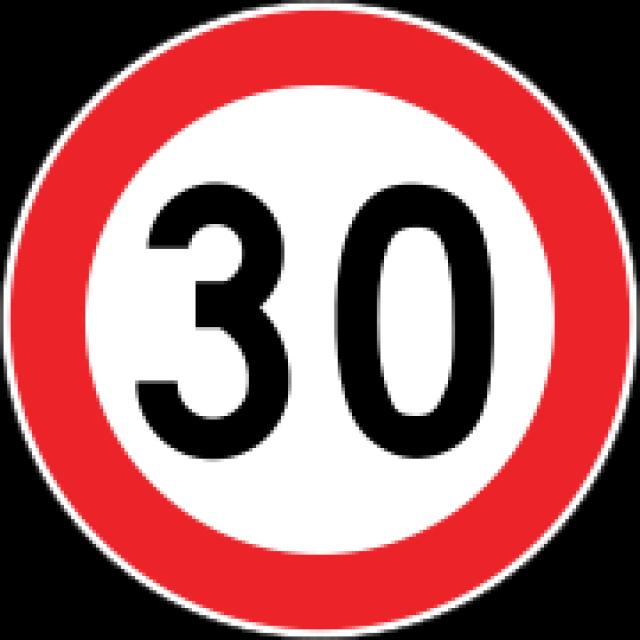Speed Limit -30-: (130, 173, 507, 466)
